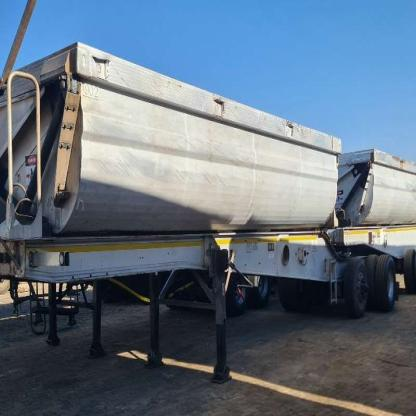dump_truck: (16, 33, 416, 324)
